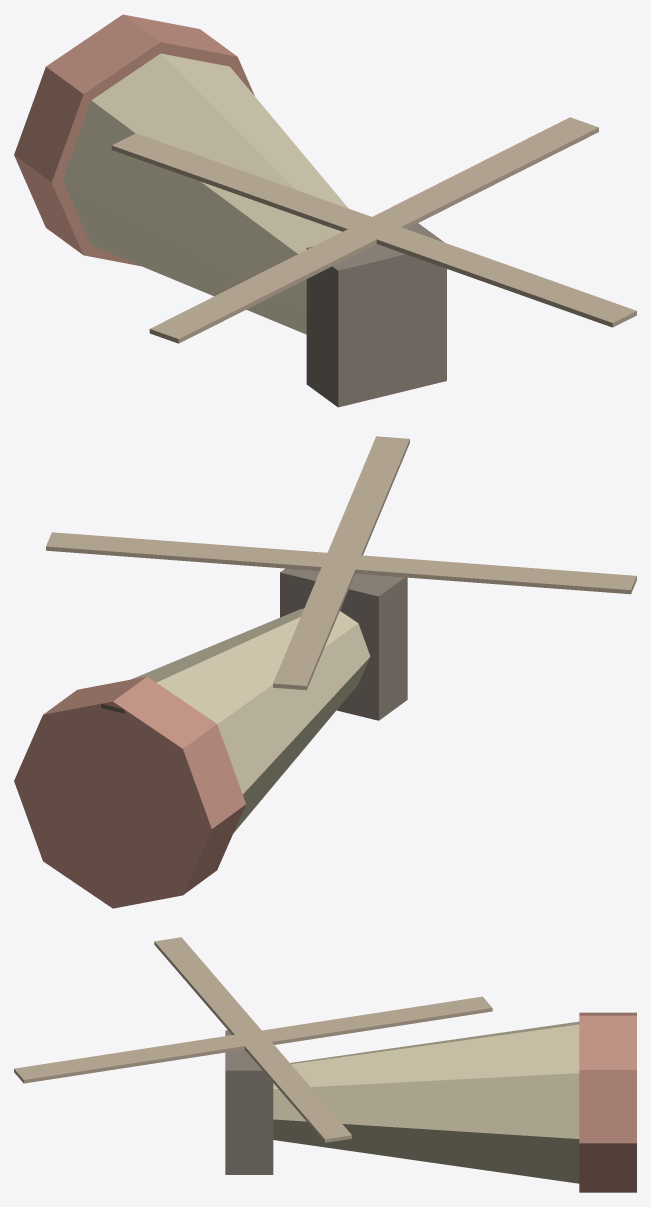
The model's file is r-140-aarlanderveen-polder-mill.glb.
3 renders of one model, top to bottom at view 1: azimuth 30°, elevation 25°; view 2: azimuth 150°, elevation 25°; view 3: azimuth 270°, elevation 25°, orthographic. The views are drawn at different scales.
Visible parts, largest first — view 1: body, sails, cap, base; view 2: base, sails, body, cap; view 3: body, sails, base, cap.
Part boxes in pixels (<box>): body: <box>62,53,348,334</box>; sails: <box>111,117,636,343</box>; cap: <box>306,223,446,407</box>; base: <box>14,14,254,266</box>; base: <box>14,676,245,908</box>; sails: <box>46,436,636,690</box>; body: <box>131,608,370,832</box>; cap: <box>280,568,407,720</box>; body: <box>273,1021,579,1183</box>; sails: <box>14,937,492,1142</box>; base: <box>579,1012,636,1192</box>; cap: <box>225,1030,273,1174</box>.
Bounding box in the file's own units: 24945 × 10000 × 32473.
